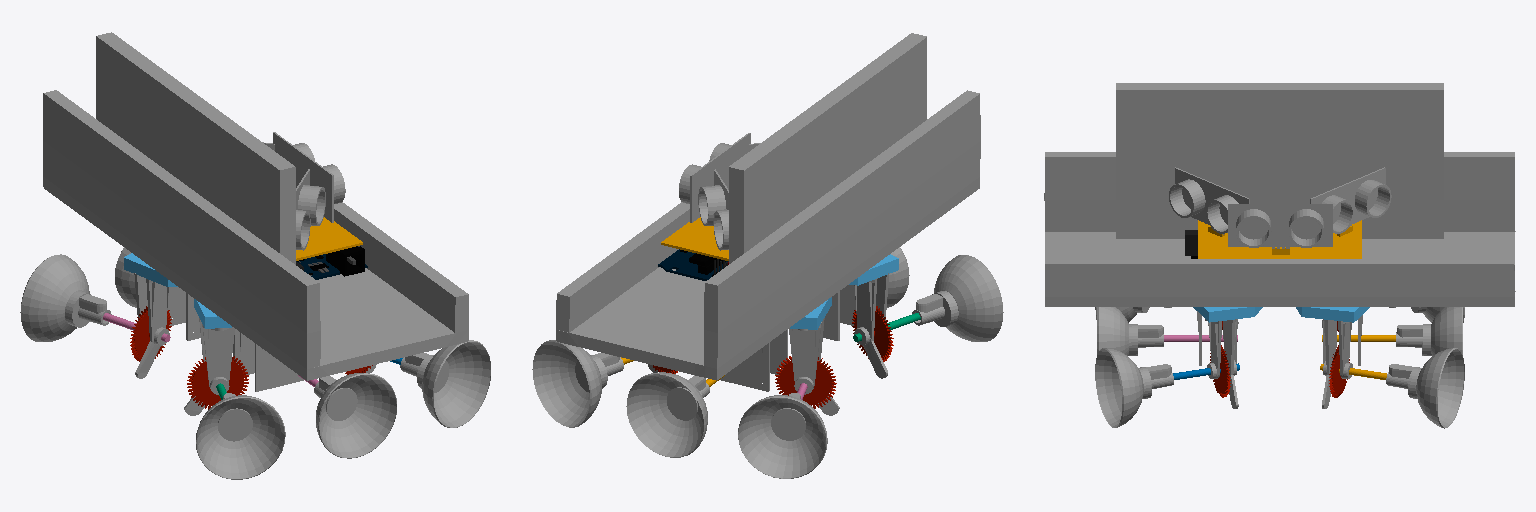
--- What the picture shows (computed from the rendered views, not written in the file) ---
The picture shows the robot from 3 angles, left to right: view 1: azimuth 30°, elevation 25°; view 2: azimuth 150°, elevation 25°; view 3: azimuth 270°, elevation 25°; orthographic projection.
Robot: my6lbot — 39 links, 38 joints (6 continuous, 32 fixed); root link odom; default pose: all joints at 0.
Visible links, largest first — view 1: plataforma, movil, rueda_izqda_arriba, rueda_centro_izqda, rueda_drcha_arriba, rueda_izqda_abajo, hc_sr04_2, pata_larga_drcha_arriba, pata_izqda_arriba, hc_sr04_1, arduino, control_motores (+7 smaller); view 2: plataforma, movil, rueda_drcha_arriba, rueda_centro_drcha, rueda_izqda_arriba, rueda_drcha_abajo, hc_sr04_2, hc_sr04_3, pata_larga_izqda_arriba, pata_drcha_arriba, control_motores, engranaje_drcha_arriba (+8 smaller); view 3: movil, plataforma, hc_sr04_2, rueda_izqda_abajo, rueda_drcha_abajo, control_motores, hc_sr04_1, hc_sr04_3, rueda_centro_izqda, rueda_centro_drcha, base_link, pata_larga_izqda_abajo (+3 smaller).
Link boxes in pixels (<box>): plataforma: <box>43,90,468,380</box>; movil: <box>96,32,295,264</box>; rueda_izqda_arriba: <box>196,393,285,479</box>; rueda_centro_izqda: <box>314,373,396,458</box>; rueda_drcha_arriba: <box>20,254,111,341</box>; rueda_izqda_abajo: <box>400,340,490,427</box>; hc_sr04_2: <box>273,132,345,222</box>; pata_larga_drcha_arriba: <box>135,279,169,378</box>; pata_izqda_arriba: <box>202,324,234,394</box>; hc_sr04_1: <box>296,169,325,250</box>; arduino: <box>296,246,367,279</box>; control_motores: <box>296,217,362,260</box>; plataforma: <box>556,90,980,380</box>; movil: <box>729,33,926,263</box>; rueda_drcha_arriba: <box>738,393,827,478</box>; rueda_centro_drcha: <box>626,372,709,457</box>; rueda_izqda_arriba: <box>912,255,1003,341</box>; rueda_drcha_abajo: <box>532,340,623,427</box>; hc_sr04_2: <box>679,133,750,222</box>; hc_sr04_3: <box>698,169,728,250</box>; pata_larga_izqda_arriba: <box>854,278,887,378</box>; pata_drcha_arriba: <box>789,322,821,394</box>; control_motores: <box>661,217,728,260</box>; engranaje_drcha_arriba: <box>775,356,836,408</box>; movil: <box>1116,83,1443,238</box>; plataforma: <box>1044,152,1515,306</box>; hc_sr04_2: <box>1228,204,1332,248</box>; rueda_izqda_abajo: <box>1095,348,1173,427</box>; rueda_drcha_abajo: <box>1386,348,1464,428</box>; control_motores: <box>1198,220,1361,258</box>; hc_sr04_1: <box>1169,167,1249,234</box>; hc_sr04_3: <box>1310,167,1391,234</box>; rueda_centro_izqda: <box>1097,307,1163,355</box>; rueda_centro_drcha: <box>1396,307,1462,355</box>; base_link: <box>1193,307,1369,322</box>; pata_larga_izqda_abajo: <box>1223,319,1238,408</box>.
Size in the robot's own frame: 1.3 by 2.01 by 1.25 metres.
Meshes: 17 distinct files referenced, 36 mesh visuals loaded (16 Collada DAE); not drawn: 1 (file found but could not be loaded).

robot.urdf — my6lbot:
<?xml version="1.0"?>

<robot name="my6lbot"> 

<!--<arg name="r200_cam_rgb_px" default="0.005"/>
<arg name="r200_cam_rgb_py" default="0.018"/>
<arg name="r200_cam_rgb_pz" default="0.013"/>
<arg name="r200_cam_depth_offset" default="0.01"/>-->

<!--<arg name="camera_visual" default="false"/>-->

<!-- Descripción de la infraestructura del robot, my6lbot -->

<!-- Link odom -->
<link name="odom"/>

<!-- Joint entre Odom y Base_link -->
<joint name="odom_base_link" type="fixed"> 
    <parent link="odom"/>
    <child link="base_link"/>
</joint>


<!-- Base del robot, my6lbot -->
<link name="base_link">
    <visual>
      <origin rpy="0 0 0" xyz="0 0 0.41"/> 
      <geometry>
        <mesh filename="package://my6lbot_description/meshes/base.dae"/>
      </geometry>
    </visual>
    <collision>
      <origin rpy="0 0 0" xyz="0 0 0.41"/>
      <geometry>
        <mesh filename="package://my6lbot_description/meshes/collision_base.dae"/>
      </geometry>
    </collision>
    <inertial>
      <origin rpy="0 0 0" xyz="0.001408 0.005949 0.466723"/> 
      <mass value="0.0252004"/>
	<inertia ixx="0.001373556" ixy="0.000000974" ixz="-0.000000008" iyy="0.000990376" iyz="0.000000003" izz="0.002353434"/>
    </inertial>
</link>


<!-- Estructura de patas cuadradas bajo la base, patas centrales -->

<!-- Pata cuadrada centro izquierda -->
<link name="pata_cuad_centro_izqda">
    <visual>
     <origin rpy="0 -1.5708 1.5708" xyz="0 -0.03 0"/>
      <geometry>
        <mesh filename="package://my6lbot_description/meshes/pata_cuadrada_centro_izqda.dae"/> 
      </geometry>
    </visual>
    <collision>
      <origin rpy="0 -1.5708 1.5708" xyz="0 -0.03 0"/>
      <geometry>
        <mesh filename="package://my6lbot_description/meshes/collision_pata_cuadrada.dae"/>
      </geometry>
    </collision>
    <inertial>
      <origin rpy="0 0 0" xyz="-0.131695 -0.022760 -0.025368"/>
      <mass value="0.000011341"/> 
      <inertia ixx="0.000000155" ixy="-0.000000026" ixz="-0.000000005" iyy="0.000000099" iyz="-0.000000001" izz="0.000000250"/>
    </inertial>
</link>

<!-- Joint pata cuadrada centro izquierda con base -->
<joint name="pata_centro_izqda" type="fixed">
       <origin xyz="0 -0.34 0.38" rpy="0 0 0"/>     
	<parent link="base_link"/>
        <child link="pata_cuad_centro_izqda"/>
</joint> 

<!-- Pata cuadrada centro izquierda trasera -->
<link name="pata_cuad_centro_izqda_tras">
    <visual>
      <origin rpy="0 -1.5708 1.5708" xyz="0 -0.03 0"/> 
      <geometry>
        <mesh filename="package://my6lbot_description/meshes/pata_cuadrada_trasera_izqda.dae"/> 
      </geometry>
    </visual>
    <collision>
      <origin rpy="0 -1.5708 1.5708" xyz="0 -0.03 0"/>
      <geometry>
        <mesh filename="package://my6lbot_description/meshes/collision_pata_cuadrada_trasera.dae"/>
      </geometry>
    </collision>
    <inertial>
      <origin rpy="0 0 0" xyz="-0.131672 -0.016797 -0.019444"/> 
      <mass value="0.000011329"/>
      <inertia ixx="0.000000156" ixy="-0.000000028" ixz="-0.000000008" iyy="0.000000102" iyz="-0.000000002" izz="0.000000250"/>
    </inertial>
</link>

<!-- Joint pata cuadrada centro izquierda trasera con base -->
<joint name="pata_centro_izqda_tras" type="fixed">
        <origin xyz="0 -0.19 0.38" rpy="0 0 0"/>
        <parent link="base_link"/>
        <child link="pata_cuad_centro_izqda_tras"/>
</joint> 


<!-- Pata cuadrada centro derecha --> 
<link name="pata_cuad_centro_drcha">
    <visual>
      <origin rpy="0 -1.5708 -1.5708" xyz="0 0.03 0"/>
      <geometry>
        <mesh filename="package://my6lbot_description/meshes/pata_cuadrada_centro_drcha.dae"/> 
      </geometry>
    </visual>
    <collision>
      <origin rpy="0 -1.5708 -1.5708" xyz="0 0.03 0"/>
      <geometry>
        <mesh filename="package://my6lbot_description/meshes/collision_pata_cuadrada.dae"/>
      </geometry>
    </collision>
    <inertial>
      <origin rpy="0 0 0" xyz="-0.131695 -0.022760 -0.025368"/> 
	<mass value="0.000011341"/> 
      <inertia ixx="0.000000155" ixy="-0.000000026" ixz="-0.000000005" iyy="0.000000099" iyz="-0.000000001" izz="0.000000250"/>
    </inertial>
</link> 

<!-- Joint pata cuadrada centro derecha con base -->
<joint name="pata_centro_drcha" type="fixed">
        <origin xyz="0 0.34 0.38" rpy="0 0 0"/> 
        <parent link="base_link"/>
        <child link="pata_cuad_centro_drcha"/>
</joint> 


<!-- Pata cuadrada centro derecha trasera -->
<link name="pata_cuad_centro_drcha_tras">
    <visual>
      <origin rpy="0 -1.5708 -1.5708" xyz="0 0.03 0"/>
      <geometry>
        <mesh filename="package://my6lbot_description/meshes/pata_cuadrada_trasera_drcha.dae"/> 
      </geometry>
    </visual>
    <collision>
      <origin rpy="0 -1.5708 -1.5708" xyz="0 0.03 0"/>
      <geometry>
        <mesh filename="package://my6lbot_description/meshes/collision_pata_cuadrada_trasera.dae"/>
      </geometry>
    </collision>
    <inertial>
      <origin rpy="0 0 0" xyz="-0.131672 -0.016797 -0.019444"/>
      <mass value="0.000011329"/>
      <inertia ixx="0.000000156" ixy="-0.000000028" ixz="-0.000000008" iyy="0.000000102" iyz="-0.000000002" izz="0.000000250"/>
    </inertial>
</link> 


<!-- Joint pata cuadrada centro derecha trasera con base -->
<joint name="pata_centro_drcha_tras" type="fixed">
        <origin xyz="0 0.19 0.38" rpy="0 0 0"/>
        <parent link="base_link"/>
        <child link="pata_cuad_centro_drcha_tras"/>
</joint> 



<!-- Estructura de las patas que se encuentran en las esquinas -->

<!-- Esquina izquierda arriba (mirando el robot de frente) -->
<!-- Pata corta -->
<link name="pata_izqda_arriba">
    <visual>
      <origin rpy="0 -1.5708 1.5708" xyz="0 0 -0.055"/>
      <geometry>
        <mesh filename="package://my6lbot_description/meshes/pata_corta.dae"/>
      </geometry>
    </visual>
    <collision>
      <origin rpy="0 -1.5708 1.5708" xyz="0 0 -0.055"/>
      <geometry>
        <mesh filename="package://my6lbot_description/meshes/collision_pata_corta.dae"/>
      </geometry>
    </collision>
    <inertial>
	<origin rpy="0 0 0" xyz="0.1076660 -0.0000496 0.0573439"/>
   	<mass value="0.000030204"/>
     <inertia ixx="0.000000062" ixy="-0.000000034" ixz="0.000000516" iyy="0.000000772" iyz="0.000000000" izz="0.000000710"/>
    </inertial>
</link>

<!-- Joint pata corta izquierda arriba con base -->
<joint name="izqda_arriba" type="fixed">
        <origin xyz="-0.32 -0.27 0.38" rpy="0 0 -0.349066"/>
        <parent link="base_link"/>
        <child link="pata_izqda_arriba"/>
</joint> 


<!-- Pata larga -->
<link name="pata_larga_izqda_arriba">
    <visual>
      <origin rpy="0 1.5708 1.5708" xyz="0.01 0 -0.2"/>
      <geometry>
        <mesh filename="package://my6lbot_description/meshes/pata_larga_izqda.dae"/>
      </geometry>
    </visual>
    <collision>
      <origin rpy="0 1.5708 1.5708" xyz="0.01 0 -0.2"/>
      <geometry>
        <mesh filename="package://my6lbot_description/meshes/collision_pata_larga_izqda.dae"/>
      </geometry>
    </collision>
    <inertial>
      <origin rpy="0 0 0" xyz="-0.033181 0.001102 0.008191"/> 
      <mass value="0.000170937"/>
      <inertia ixx="0.000000285" ixy="-0.000000566" ixz="-0.000000404" iyy="0.000002178" iyz="-0.000000106" izz="0.000001977"/>
    </inertial>
</link> 

<!-- Joint pata larga izquierda arriba con base -->
<joint name="larga_izqda_arriba" type="fixed"> 
        <origin xyz="-0.32 -0.2 0.38" rpy="0 0 -0.349066"/> 
        <parent link="base_link"/>
        <child link="pata_larga_izqda_arriba"/>
</joint> 



<!-- Equina izquierda abajo (mirando el robot de frente) -->
<!-- Pata corta -->
<link name="pata_izqda_abajo">
    <visual>
      <origin rpy="0 -1.5708 1.5708" xyz="0 0 -0.055"/>
      <geometry>
        <mesh filename="package://my6lbot_description/meshes/pata_corta.dae"/>
      </geometry>
    </visual>
    <collision>
      <origin rpy="0 -1.5708 1.5708" xyz="0 0 -0.055"/>
      <geometry>
        <mesh filename="package://my6lbot_description/meshes/collision_pata_corta.dae"/>
      </geometry>
    </collision>
    <inertial>
	<origin rpy="0 0 0" xyz="0.1076660 -0.0000496 0.0573439"/>
   	<mass value="0.000030204"/>
     <inertia ixx="0.000000062" ixy="-0.000000034" ixz="0.000000516" iyy="0.000000772" iyz="0.000000000" izz="0.000000710"/>
    </inertial>
</link>  

<!-- Joint pata corta izquierda abajo con base -->
<joint name="izqda_abajo" type="fixed">
        <origin xyz="0.32 -0.27 0.38" rpy="0 0 0.349066"/> 
        <parent link="base_link"/>
        <child link="pata_izqda_abajo"/>
</joint>  


<!-- Pata larga -->
<link name="pata_larga_izqda_abajo">
    <visual>
      <origin rpy="0 -1.5708 -1.5708" xyz="-0.01 0 -0.2"/>
      <geometry>
        <mesh filename="package://my6lbot_description/meshes/pata_larga_drcha.dae"/>
      </geometry>
    </visual>
    <collision>
      <origin rpy="0 -1.5708 -1.5708" xyz="-0.01 0 -0.2"/>
      <geometry>
        <mesh filename="package://my6lbot_description/meshes/collision_pata_larga_drcha.dae"/>
      </geometry>
    </collision>
    <inertial>
      <origin rpy="0 0 0" xyz="-0.033181 0.001102 0.008191"/>
      <mass value="0.000170937"/>
      <inertia ixx="0.000000285" ixy="-0.000000566" ixz="-0.000000404" iyy="0.000002178" iyz="-0.000000106" izz="0.000001977"/>
    </inertial>
</link> 

<!-- Joint pata larga izquierda abajo con base -->
<joint name="larga_izqda_abajo" type="fixed">
        <origin xyz="0.32 -0.2 0.38" rpy="0 0 0.349066"/> 
        <parent link="base_link"/>
        <child link="pata_larga_izqda_abajo"/>
</joint> 



<!-- Esquina derecha arriba (mirando el robot de frente) -->
<!-- Pata corta -->
<link name="pata_drcha_arriba">
    <visual>
      <origin rpy="0 -1.5708 -1.5708" xyz="0 0 -0.055"/>
      <geometry>
        <mesh filename="package://my6lbot_description/meshes/pata_corta.dae"/>
      </geometry>
    </visual>
    <collision>
      <origin rpy="0 -1.5708 -1.5708" xyz="0 0 -0.055"/>
      <geometry>
        <mesh filename="package://my6lbot_description/meshes/collision_pata_corta.dae"/>
      </geometry>
    </collision>
    <inertial>
	<origin rpy="0 0 0" xyz="0.1076660 -0.0000496 0.0573439"/>
   	<mass value="0.000030204"/>
     <inertia ixx="0.000000062" ixy="-0.000000034" ixz="0.000000516" iyy="0.000000772" iyz="0.000000000" izz="0.000000710"/>
    </inertial>
</link> 

<!-- Joint pata corta derecha arriba con base -->
<joint name="drcha_arriba" type="fixed">
        <origin xyz="-0.32 0.27 0.38" rpy="0 0 0.349066"/>
        <parent link="base_link"/>
        <child link="pata_drcha_arriba"/>
</joint> 


<!-- Pata larga -->
<link name="pata_larga_drcha_arriba">
    <visual>
      <origin rpy="0 -1.5708 1.5708" xyz="0.01 0 -0.2"/>
      <geometry>
        <mesh filename="package://my6lbot_description/meshes/pata_larga_drcha.dae"/>
      </geometry>
    </visual>
    <collision>
      <origin rpy="0 -1.5708 1.5708" xyz="0.01 0 -0.2"/>
      <geometry>
        <mesh filename="package://my6lbot_description/meshes/collision_pata_larga_drcha.dae"/>
      </geometry>
    </collision>
    <inertial>
      <origin rpy="0 0 0" xyz="-0.033181 0.001102 0.008191"/> 
      <mass value="0.000170937"/>
      <inertia ixx="0.000000285" ixy="-0.000000566" ixz="-0.000000404" iyy="0.000002178" iyz="-0.000000106" izz="0.000001977"/>
    </inertial>
</link> 

<!-- Joint pata larga derecha arriba con base -->
<joint name="larga_drcha_arriba" type="fixed">
        <origin xyz="-0.32 0.2 0.38" rpy="0 0 0.349066"/>
        <parent link="base_link"/>
        <child link="pata_larga_drcha_arriba"/>
</joint> 



<!-- Esquina derecha abajo (mirando el robot de frente) -->
<!-- Pata corta -->
<link name="pata_drcha_abajo">
    <visual>
      <origin rpy="0 -1.5708 -1.5708" xyz="0 0 -0.055"/>
      <geometry>
        <mesh filename="package://my6lbot_description/meshes/pata_corta.dae"/>
      </geometry>
    </visual>
    <collision>
      <origin rpy="0 -1.5708 -1.5708" xyz="0 0 -0.055"/>
      <geometry>
        <mesh filename="package://my6lbot_description/meshes/collision_pata_corta.dae"/>
      </geometry>
    </collision>
    <inertial>
	<origin rpy="0 0 0" xyz="0.1076660 -0.0000496 0.0573439"/>
   	<mass value="0.000030204"/>
     <inertia ixx="0.000000062" ixy="-0.000000034" ixz="0.000000516" iyy="0.000000772" iyz="0.000000000" izz="0.000000710"/>
    </inertial>
</link>  

<!-- Joint pata corta derecha abajo con base -->
<joint name="drcha_abajo" type="fixed">
        <origin xyz="0.32 0.27 0.38" rpy="0 0 -0.349066"/>
        <parent link="base_link"/>
        <child link="pata_drcha_abajo"/>
</joint> 


<!-- Pata larga -->
<link name="pata_larga_drcha_abajo">
    <visual>
      <origin rpy="0 1.5708 -1.5708" xyz="-0.01 0 -0.2"/>
      <geometry>
        <mesh filename="package://my6lbot_description/meshes/pata_larga_izqda.dae"/>
      </geometry>
    </visual>
    <collision>
      <origin rpy="0 1.5708 -1.5708" xyz="-0.01 0 -0.2"/>
      <geometry>
        <mesh filename="package://my6lbot_description/meshes/collision_pata_larga_izqda.dae"/>
      </geometry>
    </collision>
    <inertial>
      <origin rpy="0 0 0" xyz="-0.033181 0.001102 0.008191"/>
      <mass value="0.000170937"/>
      <inertia ixx="0.000000285" ixy="-0.000000566" ixz="-0.000000404" iyy="0.000002178" iyz="-0.000000106" izz="0.000001977"/>
    </inertial>
</link> 

<!-- Joint pata larga derecha abajo con base -->
<joint name="larga_drcha_abajo" type="fixed">
        <origin xyz="0.32 0.2 0.38" rpy="0 0 -0.349066"/>
        <parent link="base_link"/>
        <child link="pata_larga_drcha_abajo"/>
</joint>  




<!-- Ejes y ruedas del robot, my6lbot -->

<!-- Centrales -->
<!-- Eje centro izquierda -->
<link name="eje_centro_izqda">
    <visual>
      <origin rpy="1.5708 0 0" xyz="0 -0.04 0"/>
      <geometry>
        <mesh filename="package://my6lbot_description/meshes/eje.dae"/> 
      </geometry>
    </visual>
    <collision>
      <origin rpy="1.5708 0 0" xyz="0 -0.04 0"/>
      <geometry>
        <mesh filename="package://my6lbot_description/meshes/collision_eje.dae"/>
      </geometry>
    </collision>
    <inertial>
      <origin rpy="0 0 0" xyz="0 0 0"/> 
	<mass value="0.00056233"/>
      <inertia ixx="0.000007530" ixy="0" ixz="-0" iyy="0.000007530" iyz="0" izz="0.000000063"/>
    </inertial>
</link> 

<!-- Joint eje con pata centro izquierda --> 
<joint name="eje_pata_centro_izqda" type="fixed">
    <parent link="pata_cuad_centro_izqda"/>
    <child link="eje_centro_izqda"/>
    <origin xyz="0 0 -0.245" rpy="0 0 0"/>
</joint>


<!-- Rueda centro izquierda -->
<link name="rueda_centro_izqda">
    <visual>
      <origin rpy="3.14159 3.14159 0" xyz="0 -0.1 0"/>
      <geometry>
        <mesh filename="package://my6lbot_description/meshes/rueda.dae"/> 
      </geometry>
    </visual>
    <collision>
      <origin rpy="3.14159 3.14159 0" xyz="0 -0.1 0"/>
      <geometry>
        <mesh filename="package://my6lbot_description/meshes/collision_rueda.dae"/>
      </geometry>
    </collision>
    <inertial>
    <origin rpy="0 0 0" xyz="0 -0.1 0"/> 
	<mass value="0.001930063"/>
      <inertia ixx="0.000022026" ixy="-0.000000134" ixz="0.000000006" iyy="0.000022416" iyz="0.000000194" izz="0.000021696"/>
    </inertial>
</link> 

<!-- Joint rueda centro izquierda con eje -->
 <joint name="rueda_eje_centro_izqda" type="continuous"> 
    <axis xyz="0 1 0"/>
    <parent link="eje_centro_izqda"/>
    <child link="rueda_centro_izqda"/>
    <origin xyz="0 -0.2 0" rpy="0 0 0"/>
 </joint> 


<!-- Eje centro derecha -->
<link name="eje_centro_drcha">
    <visual>
      <origin rpy="1.5708 0 0" xyz="0 0.04 0"/>
      <geometry>
        <mesh filename="package://my6lbot_description/meshes/eje.dae"/> 
      </geometry>
    </visual>
    <collision>
      <origin rpy="1.5708 0 0" xyz="0 0.04 0"/>
      <geometry>
        <mesh filename="package://my6lbot_description/meshes/collision_eje.dae"/>
      </geometry>
    </collision>
    <inertial>
     <origin rpy="0 0 0" xyz="0 0 0"/>
	<mass value="0.00056233"/>
      <inertia ixx="0.000007530" ixy="0" ixz="-0" iyy="0.000007530" iyz="0" izz="0.000000063"/>
    </inertial>
</link>


<!-- Joint eje con pata centro derecha --> 
<joint name="eje_pata_centro_drcha" type="fixed">
    <parent link="pata_cuad_centro_drcha"/>
    <child link="eje_centro_drcha"/>
    <origin xyz="0 0 -0.245" rpy="0 0 0"/>
</joint>


<!-- Rueda centro derecha --> 
<link name="rueda_centro_drcha">
    <visual>
	 <origin rpy="0 0 0" xyz="0 0.1 0"/> 
      <geometry>
        <mesh filename="package://my6lbot_description/meshes/rueda.dae"/> 
      </geometry>
    </visual>
    <collision>
      <origin rpy="0 0 0" xyz="0 0.1 0"/>
      <geometry>
        <mesh filename="package://my6lbot_description/meshes/collision_rueda.dae"/>
      </geometry>
    </collision>
    <inertial>
     <origin rpy="0 0 0" xyz="0 0.1 0"/> 
	<mass value="0.001930063"/>
      <inertia ixx="0.000022026" ixy="-0.000000134" ixz="0.000000006" iyy="0.000022416" iyz="0.000000194" izz="0.000021696"/>
    </inertial>
</link> 


<!-- Joint rueda centro derecha con eje --> 
<joint name="rueda_eje_centro_drcha" type="continuous">
    <axis xyz="0 1 0"/>
    <parent link="eje_centro_drcha"/>
    <child link="rueda_centro_drcha"/>
    <origin xyz="0 0.2 0" rpy="0 0 0"/>
</joint>




<!-- Lado Izquierdo -->
<!-- Eje izquierda arriba -->
<link name="eje_izqda_arriba">
    <visual>
      <origin rpy="0 1.5708 1.5708" xyz="0 -0.1 0"/>
      <geometry>
        <mesh filename="package://my6lbot_description/meshes/eje.dae"/> 
      </geometry>
    </visual>
    <collision>
      <origin rpy="0 1.5708 1.5708" xyz="0 -0.1 0"/>
      <geometry>
        <mesh filename="package://my6lbot_description/meshes/collision_eje.dae"/>
      </geometry>
    </collision>
    <inertial>
      <origin rpy="0 0 0" xyz="0 0 0"/>
	<mass value="0.00056233"/>
      <inertia ixx="0.000007530" ixy="0" ixz="-0" iyy="0.000007530" iyz="0" izz="0.000000063"/>
    </inertial>
</link>  


<!-- Joint pata izquierda arriba con eje --> 
<joint name="eje_pata_izqda_arriba" type="fixed"> 
        <parent link="pata_izqda_arriba"/>
        <child link="eje_izqda_arriba"/>
	<origin xyz="0 0 -0.245" rpy="0 0 0"/> 
</joint> 


<!-- Rueda izquierda arriba -->
<link name="rueda_izqda_arriba">
    <visual>
      <origin rpy="3.14159 3.14159 0" xyz="0 -0.1 0"/>
      <geometry>
        <mesh filename="package://my6lbot_description/meshes/rueda.dae"/> 
      </geometry>
    </visual>
    <collision>
      <origin rpy="3.14159 3.14159 0" xyz="0 -0.1 0"/>
      <geometry>
        <mesh filename="package://my6lbot_description/meshes/collision_rueda.dae"/>
      </geometry>
    </collision>
    <inertial>
     <origin rpy="0 0 0" xyz="0 -0.1 0"/>
	<mass value="0.001930063"/>
      <inertia ixx="0.000022026" ixy="-0.000000134" ixz="0.000000006" iyy="0.000022416" iyz="0.000000194" izz="0.000021696"/>
    </inertial>
</link> 

<!-- Joint rueda izquierda arriba con eje -->
<joint name="rueda_eje_izqda_arriba" type="continuous">
	<axis xyz="0 1 0"/>
        <parent link="eje_izqda_arriba"/>
        <child link="rueda_izqda_arriba"/>
	<origin xyz="0 -0.25 0" rpy="0 0 0"/>
</joint>


<!-- Eje izquierda abajo -->
<link name="eje_izqda_abajo">
    <visual>
      <origin rpy="0 -1.5708 1.5708" xyz="0 -0.1 0"/>
      <geometry>
        <mesh filename="package://my6lbot_description/meshes/eje.dae"/> 
      </geometry>
    </visual>
    <collision>
      <origin rpy="0 -1.5708 1.5708" xyz="0 -0.1 0"/>
      <geometry>
        <mesh filename="package://my6lbot_description/meshes/collision_eje.dae"/>
      </geometry>
    </collision>
    <inertial>
      <origin rpy="0 0 0" xyz="0 0 0"/>
	<mass value="0.00056233"/>
      <inertia ixx="0.000007530" ixy="0" ixz="-0" iyy="0.000007530" iyz="0" izz="0.000000063"/>
    </inertial>
</link>  

<!-- Joint pata izquierda abajo con eje --> 
<joint name="eje_pata_izqda_abajo" type="fixed">
	<origin xyz="0 0 -0.245" rpy="0 0 0"/>
        <parent link="pata_izqda_abajo"/>
        <child link="eje_izqda_abajo"/>
</joint> 


<!-- Rueda izquierda abajo -->
<link name="rueda_izqda_abajo">
    <visual>
    <origin rpy="3.14159 3.14159 0" xyz="0 -0.1 0"/>
      <geometry>
        <mesh filename="package://my6lbot_description/meshes/rueda.dae"/> 
      </geometry>
    </visual>
    <collision>
      <origin rpy="3.14159 3.14159 0" xyz="0 -0.1 0"/>
      <geometry>
        <mesh filename="package://my6lbot_description/meshes/collision_rueda.dae"/>
      </geometry>
    </collision>
    <inertial>
    <origin rpy="0 0 0" xyz="0 -0.1 0"/>
	<mass value="0.001930063"/>
      <inertia ixx="0.000022026" ixy="-0.000000134" ixz="0.000000006" iyy="0.000022416" iyz="0.000000194" izz="0.000021696"/>
    </inertial>
</link> 

<!-- Joint rueda izquierda abajo con eje -->
<joint name="rueda_eje_izqda_abajo" type="continuous">
	<axis xyz="0 1 0"/>
        <origin xyz="0 -0.25 0" rpy="0 0 0"/>
        <parent link="eje_izqda_abajo"/>
        <child link="rueda_izqda_abajo"/>
</joint>  




<!-- Lado Derecho -->
<!-- Eje derecha arriba -->
<link name="eje_drcha_arriba">
    <visual>
      <origin rpy="0 -1.5708 1.5708" xyz="0 0.1 0"/>
      <geometry>
        <mesh filename="package://my6lbot_description/meshes/eje.dae"/> 
      </geometry>
    </visual>
    <collision>
      <origin rpy="0 -1.5708 1.5708" xyz="0 0.1 0"/>
      <geometry>
        <mesh filename="package://my6lbot_description/meshes/collision_eje.dae"/>
      </geometry>
    </collision>
    <inertial>
      <origin rpy="0 0 0" xyz="0 0 0"/>
	<mass value="0.00056233"/>
      <inertia ixx="0.000007530" ixy="0" ixz="-0" iyy="0.000007530" iyz="0" izz="0.000000063"/>
    </inertial>
</link>

<!-- Joint eje derecha arriba con pata --> 
<joint name="eje_pata_drcha_arriba" type="fixed">
        <origin xyz="0 0 -0.245" rpy="0 0 0"/>
        <parent link="pata_drcha_arriba"/>
        <child link="eje_drcha_arriba"/>
</joint>


<!-- Rueda derecha arriba -->
<link name="rueda_drcha_arriba">
    <visual>
      <origin rpy="0 0 0" xyz="0 0.1 0"/>
      <geometry>
        <mesh filename="package://my6lbot_description/meshes/rueda.dae"/> 
      </geometry>
    </visual>
    <collision>
      <origin rpy="0 0 0" xyz="0 0.1 0"/>
      <geometry>
        <mesh filename="package://my6lbot_description/meshes/collision_rueda.dae"/>
      </geometry>
    </collision>
    <inertial>
    <origin rpy="0 0 0" xyz="0 0.1 0"/>
	<mass value="0.001930063"/>
      <inertia ixx="0.000022026" ixy="-0.000000134" ixz="0.000000006" iyy="0.000022416" iyz="0.000000194" izz="0.000021696"/>
    </inertial>
</link> 

<!-- Joint rueda derecha arriba con eje -->
<joint name="rueda_eje_drcha_arriba" type="continuous">
	<axis xyz="0 1 0"/>
        <parent link="eje_drcha_arriba"/>
        <child link="rueda_drcha_arriba"/>
	<origin xyz="0 0.25 0" rpy="0 0 0"/> 
</joint> 


<!-- Eje derecha abajo --> 
<link name="eje_drcha_abajo">
    <visual>
      <origin rpy="0 1.5708 -1.5708" xyz="0 0.1 0"/>
      <geometry>
        <mesh filename="package://my6lbot_description/meshes/eje.dae"/> 
      </geometry>
    </visual>
    <collision>
      <origin rpy="0 1.5708 -1.5708" xyz="0 0.1 0"/>
      <geometry>
        <mesh filename="package://my6lbot_description/meshes/collision_eje.dae"/>
      </geometry>
    </collision>
    <inertial>
      <origin rpy="0 0 0" xyz="0 0 0"/>
	<mass value="0.00056233"/>
      <inertia ixx="0.000007530" ixy="0" ixz="-0" iyy="0.000007530" iyz="0" izz="0.000000063"/>
    </inertial>
</link> 


<!-- Joint eje derecha abajo con pata --> 
<joint name="eje_pata_drcha_abajo" type="fixed">
        <parent link="pata_drcha_abajo"/>
        <child link="eje_drcha_abajo"/>
	<origin xyz="0 0 -0.245" rpy="0 0 0"/>
</joint> 


<!-- Rueda derecha abajo  -->
<link name="rueda_drcha_abajo">
    <visual>
      <origin rpy="0 0 0" xyz="0 0.1 0"/>
      <geometry>
        <mesh filename="package://my6lbot_description/meshes/rueda.dae"/> 
      </geometry>
    </visual>
    <collision>
      <origin rpy="0 0 0" xyz="0 0.1 0"/>
      <geometry>
        <mesh filename="package://my6lbot_description/meshes/collision_rueda.dae"/>
      </geometry>
    </collision>
    <inertial>
    <origin rpy="0 0 0" xyz="0 0.1 0"/>   
	<mass value="0.001930063"/>
      <inertia ixx="0.000022026" ixy="-0.000000134" ixz="0.000000006" iyy="0.000022416" iyz="0.000000194" izz="0.000021696"/>
    </inertial>
</link> 

<!-- Joint rueda derecha abajo con eje -->
<joint name="rueda_eje_drcha_abajo" type="continuous">
	<axis xyz="0 1 0"/>
        <parent link="eje_drcha_abajo"/>
        <child link="rueda_drcha_abajo"/>
	<origin xyz="0 0.25 0" rpy="0 0 0"/>
</joint> 




<!-- Engranajes de las 4 esquinas -->

<!-- Engranaje izquierda arriba -->
<link name="engranaje_izqda_arriba">
    <visual>
      <origin rpy="0 1.5708 1.5708" xyz="0 -0.01 0"/>
      <geometry>
        <mesh filename="package://my6lbot_description/meshes/engranaje_esquinas_naranja.dae"/> 
      </geometry>
    </visual>
    <collision>
      <origin rpy="0 1.5708 1.5708" xyz="0 -0.01 0"/>
      <geometry>
        <mesh filename="package://my6lbot_description/meshes/collision_engranaje_esquinas.dae"/>
      </geometry>
    </collision>
    <inertial>
      <origin rpy="0 0 0" xyz="0 0 0"/>
      <mass value="0.00056233"/>
      <inertia ixx="0.000007530" ixy="0" ixz="-0" iyy="0.000007530" iyz="0" izz="0.000000063"/>
    </inertial>
</link> 

<!-- Joint engranaje izquierda arriba con eje izquierda arriba -->
<joint name="engranaje_eje_izqda_arriba" type="fixed">
	<origin xyz="0 0.025 0" rpy="0 0 0"/>
        <parent link="eje_izqda_arriba"/>
        <child link="engranaje_izqda_arriba"/>
</joint> 


<!-- Engranaje izquierda abajo -->
<link name="engranaje_izqda_abajo">
    <visual>
      <origin rpy="0 -1.5708 -1.5708" xyz="0 -0.01 0"/>
      <geometry>
        <mesh filename="package://my6lbot_description/meshes/engranaje_esquinas_naranja.dae"/> 
      </geometry>
    </visual>
    <collision>
      <origin rpy="0 -1.5708 -1.5708" xyz="0 -0.01 0"/>
      <geometry>
        <mesh filename="package://my6lbot_description/meshes/collision_engranaje_esquinas.dae"/>
      </geometry>
    </collision>
    <inertial>
      <origin rpy="0 0 0" xyz="0 0 0"/>
	<mass value="0.00056233"/>
      <inertia ixx="0.000007530" ixy="0" ixz="-0" iyy="0.000007530" iyz="0" izz="0.000000063"/>
    </inertial>
</link> 

<!-- Joint engranaje izquierda abajo con eje izqda abajo -->
<joint name="engranaje_eje_izqda_abajo" type="fixed">
	<origin xyz="0 0.025 0" rpy="0 0 0"/>
        <parent link="eje_izqda_abajo"/>
        <child link="engranaje_izqda_abajo"/>
</joint>


<!-- Engranaje derecha arriba-->
<link name="engranaje_drcha_arriba">
    <visual>
      <origin rpy="0 -1.5708 1.5708" xyz="0 0.01 0"/>
      <geometry>
        <mesh filename="package://my6lbot_description/meshes/engranaje_esquinas_naranja.dae"/> 
      </geometry>
    </visual>
    <collision>
      <origin rpy="0 -1.5708 1.5708" xyz="0 0.01 0"/>
      <geometry>
        <mesh filename="package://my6lbot_description/meshes/collision_engranaje_esquinas.dae"/>
      </geometry>
    </collision>
    <inertial>
      <origin rpy="0 0 0" xyz="0 0 0"/> 
	<mass value="0.00056233"/>
      <inertia ixx="0.000007530" ixy="0" ixz="-0" iyy="0.000007530" iyz="0" izz="0.000000063"/>
    </inertial>
</link> 

<!-- Joint engranaje derecha arriba con eje derecha arriba -->
<joint name="engranaje_eje_drcha_arriba" type="fixed">
	<origin xyz="0 -0.025 0" rpy="0 0 0"/>
        <parent link="eje_drcha_arriba"/>
        <child link="engranaje_drcha_arriba"/>
</joint> 


<!-- Engranaje derecha abajo -->
<link name="engranaje_drcha_abajo">
    <visual>
      <origin rpy="0 1.5708 -1.5708" xyz="0.004 0.01 0"/>
      <geometry>
        <mesh filename="package://my6lbot_description/meshes/engranaje_esquinas_naranja.dae"/> 
      </geometry>
    </visual>
    <collision>
      <origin rpy="0 1.5708 -1.5708" xyz="0.004 0.01 0"/>
      <geometry>
        <mesh filename="package://my6lbot_description/meshes/collision_engranaje_esquinas.dae"/>
      </geometry>
    </collision>
    <inertial>
      <origin rpy="0 0 0" xyz="0 0 0"/>
	<mass value="0.00056233"/>
      <inertia ixx="0.000007530" ixy="0" ixz="-0" iyy="0.000007530" iyz="0" izz="0.000000063"/>
    </inertial>
</link> 

<!-- Joint 31: eje derecha abajo con engranaje derecha abajo -->
<joint name="engranaje_eje_drcha_abajo" type="fixed"> 
	<origin xyz="0 -0.025 0" rpy="0 0 0"/>
        <parent link="eje_drcha_abajo"/>
        <child link="engranaje_drcha_abajo"/>
</joint> 




<!-- Plataforma superior, colocada sobre la base, en la que ubicaremos el móvil, la placa de motores, la placa Arduino y los sensores -->
  <link name="plataforma">
    <visual>
      <origin rpy="0 0 -1.5708" xyz="0 0 0"/>
      <geometry>
        <mesh filename="package://my6lbot_description/meshes/plataforma.dae"/>
      </geometry>
    </visual>
    <collision>
      <origin rpy="0 0 -1.5708" xyz="0 0 0"/>
      <geometry>
        <mesh filename="package://my6lbot_description/meshes/collision_plataforma.dae"/>
      </geometry>
    </collision>
    <inertial>
     <origin rpy="0 0 0" xyz="0.001326 -0.118987 0.144776"/>
      <mass value="0.014841271"/>
	<inertia ixx="0.005568011" ixy="-0.000000796" ixz="0.000206859" iyy="0.001531249" iyz="-0.000000757" izz="0.006758632"/> <!-- Intercambiamos xx e yy de los valores obtenidos-->
    </inertial>
  </link> 

<!-- Joint plataforma superior con base  -->
<joint name="plataforma_base" type="fixed">
        <origin xyz="0 0 0.475" rpy="0 0 0"/>
        <parent link="base_link"/>
        <child link="plataforma"/>
</joint> 



<!-- Placa Arduino-->
 <link name="arduino">
    <visual>
      <origin rpy="0 0 1.5708" xyz="0 0 0"/>
      <geometry>
        <mesh filename="package://my6lbot_description/meshes/arduino.dae"/>
      </geometry>
    </visual>
    <collision>
      <origin rpy="0 0 1.5708" xyz="0 0 0"/>
      <geometry>
        <mesh filename="package://my6lbot_description/meshes/collision_arduino.dae"/>
      </geometry>
    </collision>
    <inertial>
	 <origin rpy="0 0 0" xyz="-0.032426 -0.040293 0.053334"/>
       <mass value="0.048376644"/> 
	<inertia ixx="0.002444384" ixy="0.000000000" ixz="-0.000000000" iyy="0.001236856" iyz="-0.000000000" izz="0.003572747"/> <!--intercambiamos xx e yy de los valores obtenidos -->
   </inertial>
</link>

<!-- Joint placa arduino con plataforma -->
<joint name="placa_arduino_plataforma" type="fixed">
        <origin xyz="0 0 0.03" rpy="0 0 0"/>
        <parent link="plataforma"/>
        <child link="arduino"/>
</joint> 



<!-- Placa para el control de motores -->
  <link name="control_motores">
    <visual>
      <origin rpy="0 0 0" xyz="0.02 0 0"/>
      <geometry>
        <mesh filename="package://my6lbot_description/meshes/placa_motores.dae"/>
      </geometry>
    </visual>
    <collision>
      <origin rpy="0 0 0" xyz="0.02 0 0"/>
      <geometry>
        <mesh filename="package://my6lbot_description/meshes/collision_placa_motores.dae"/>
      </geometry>
    </collision>
    <inertial>
        <origin rpy="0 0 0" xyz="-0.000745 -0.000582 0.011053"/>
	
	<mass value="0.030402384"/>

	<inertia ixx="0.000654234" ixy="0.000000000" ixz="-0.000000000" iyy="0.001260018" iyz="-0.000000000" izz="0.001905036"/> 
	</inertial>
</link>  

<!-- Joint placa control motores con placa arduino -->
<joint name="control_motores_arduino" type="fixed">
        <origin xyz="0 0 0.113" rpy="0 0 0"/>
	<parent link="arduino"/>
        <child link="control_motores"/>
</joint>  



<!-- Móvil-->
<link name="movil">
    <visual>
      <origin rpy="1.5708 3.14159 -1.5708" xyz="0 0 0"/>
      <geometry>
        <mesh filename="package://my6lbot_description/meshes/movil_sc.dae"/>
      </geometry>
    </visual>
    <collision>
      <origin rpy="1.5708 3.14159 -1.5708" xyz="0 0 0"/>
      <geometry>
        <mesh filename="package://my6lbot_description/meshes/collision_movil.dae"/>
      </geometry>
    </collision>
    <inertial>
	<origin rpy="0 0 0" xyz="0.265 0 -0.55"/>
  	<mass value="0.068563110"/>
	<inertia ixx="0.011219955" ixy="0.000005251" ixz="0.000000305" iyy="0.002826898" iyz="-0.000000732" izz="0.013990914"/> 
    </inertial>
</link> 

<!-- Joint móvil con plataforma -->
<joint name="movil_plataforma" type="fixed">
        <origin xyz="-0.265 0 0.375" rpy="0 0 0"/>
        <parent link="plataforma"/>
        <child link="movil"/>
</joint>


<!-- Cámara del móvil -->
<link name="camera_link">
 <visual>
      <origin rpy="0 1.5708 0" xyz="0 0.24 0.625"/>
      <geometry>
        <mesh filename="package://my6lbot_description/meshes/camera.dae"/>
      </geometry>
    </visual>
    <collision>
      <origin rpy="0 1.5708 0" xyz="0 0 0"/>
      <geometry>
        <mesh filename="package://my6lbot_description/meshes/collision_camera.dae"/>
      </geometry>
    </collision>
    <inertial>
  	<origin rpy="0 0 0" xyz="0.619362 -0.243069 -0.014446"/>
  	<mass value="0.000193369"/>
	<inertia ixx="0.000000070" ixy="-0.000000000" ixz="-0.000000000" iyy="0.000000070" iyz="0.000000000" izz="0.000000060"/>
    </inertial>
</link> 

<!-- Joint cámara con móvil -->
<joint name="camera_movil" type="fixed">
        <origin xyz="0.025 0.62 0.24" rpy="0 0 0"/>
        <parent link="movil"/>
        <child link="camera_link"/>
</joint>




<!-- Sensores -->

<!-- Sensor frontal -->
<link name="hc_sr04_2">
    <visual>
      <origin rpy="0 1.5708 0" xyz="0 0 0"/>
      <geometry>
        <mesh filename="package://my6lbot_description/meshes/sensor.dae"/>
      </geometry>
    </visual>
    <collision>
      <origin rpy="0 1.5708 0" xyz="-0.03 0 0"/>
      <geometry>
        <mesh filename="package://my6lbot_description/meshes/collision_sensor.dae"/>
      </geometry>
    </collision>
    <inertial>
	<origin rpy="0 0 0" xyz="0.0264374 -0.0028550 0.2141432"/>    
    <mass value="0.000627506"/>
       <inertia ixx="0.000014895" ixy="-0.000000442" ixz="0.000003847" iyy="0.000016911" iyz="-0.000000146" izz="0.000005403"/>
    </inertial>
</link> 

<!-- Joint sensor frontal con placa control de motores -->
<joint name="sensor_frontal" type="fixed">
        <origin xyz="0.21 0 0.15" rpy="0 0 0"/>
        <parent link="control_motores"/>
        <child link="hc_sr04_2"/>
</joint>  


<!-- Sensor derecha -->
<link name="hc_sr04_3">
    <visual>
      <origin rpy="0 1.5708 0" xyz="0 0 0"/>
      <geometry>
        <mesh filename="package://my6lbot_description/meshes/sensor.dae"/>
      </geometry>
    </visual>
    <collision>
      <origin rpy="0 1.5708 0" xyz="-0.03 0 0"/>
      <geometry>
        <mesh filename="package://my6lbot_description/meshes/collision_sensor.dae"/>
      </geometry>
    </collision>
    <inertial>
	<origin rpy="0 0 0" xyz="0.0264374 -0.0028550 0.2141432"/>
	 <mass value="0.000627506"/>
      <inertia ixx="0.000014895" ixy="-0.000000442" ixz="0.000003847" iyy="0.000016911" iyz="-0.000000146" izz="0.000005403"/> 	
	</inertial>
</link> 

<!-- Joint sensor derecha con placa control de motores -->
<joint name="sensor_drcha" type="fixed">
	<origin xyz="0 0.29 0.15" rpy="0 0 0.785398"/>
        <parent link="control_motores"/>
        <child link="hc_sr04_3"/>
</joint> 


<!-- Sensor izquierda -->
<link name="hc_sr04_1">
    <visual>
	<origin rpy="0 1.5708 0" xyz="0 0 0"/>
      <geometry>
        <mesh filename="package://my6lbot_description/meshes/sensor.dae"/>
      </geometry>
    </visual>
    <collision>
      <origin rpy="0 1.5708 0" xyz="-0.03 0 0"/>
      <geometry>
        <mesh filename="package://my6lbot_description/meshes/collision_sensor.dae"/>
      </geometry>
    </collision>
    <inertial>
	<origin rpy="0 0 0" xyz="0.0264374 -0.0028550 0.2141432"/>    
	<mass value="0.000627506"/>
      <inertia ixx="0.000014895" ixy="-0.000000442" ixz="0.000003847" iyy="0.000016911" iyz="-0.000000146" izz="0.000005403"/> 
    </inertial>
</link> 

<!-- Joint sensor izquierda con placa control de motores -->
<joint name="sensor_izqda" type="fixed">
        <origin xyz="0 -0.29 0.15" rpy="0 0 -0.785398"/>
        <parent link="control_motores"/>
        <child link="hc_sr04_1"/>
</joint> 


<!-- IMU sensor  -->
<link name="IMU_link">
  <inertial>
    <mass value="0.001"/>
    <origin rpy="0 0 0" xyz="0 0 0"/>
    <inertia ixx="0.0001" ixy="0" ixz="0" iyy="0.000001" iyz="0" izz="0.0001"/>
  </inertial>
  <visual>
    <origin rpy="0 0 0" xyz="0 0 0"/>
    <geometry>
      <box size="0.01 0.01 0.01"/>
    </geometry>
  </visual>
  <collision>
    <origin rpy="0 0 0" xyz="0 0 0"/>
    <geometry>
      <box size=".01 .01 .01"/>
    </geometry>
  </collision>
</link>

<!-- Joint sensor IMU con base_link -->
<joint name="IMU_joint" type="fixed">
    <origin xyz="0 0 0.39" rpy="0 0 0"/> 
    <parent link="base_link"/>
    <child link="IMU_link"/>
</joint>




<!-- Plugins -->

<!-- Plugin diferencial para el movimiento de las 6 ruedas -->
<gazebo>
      <plugin name="diffdrive_plugin_multiwheel" filename="libdiffdrive_plugin_multi_wheel.so">
        <alwaysOn>true</alwaysOn>
        <updateRate>25.0</updateRate>
        <leftJoints>rueda_eje_centro_izqda rueda_eje_izqda_abajo rueda_eje_izqda_arriba</leftJoints>
        <rightJoints>rueda_eje_centro_drcha rueda_eje_drcha_arriba rueda_eje_drcha_abajo</rightJoints>
        <wheelSeparation>1</wheelSeparation>
        <wheelDiameter>0.35</wheelDiameter>
        <torque>50000</torque>
      <!--<robotNamespace></robotNamespace> No estaba puesto-->
        <robotBaseFrame>base_link</robotBaseFrame>
	<odometryFrame>odom</odometryFrame>
        <commandTopic>cmd_vel</commandTopic>
	<odometryTopic>odom</odometryTopic>
        <publishOdometryTf>0</publishOdometryTf>
        <publishOdometryMsg>1</publishOdometryMsg>
      </plugin>
</gazebo>

<!-- Plugin Cámara Kinect-->

<gazebo reference="camera_link">
    <sensor type="depth" name="camera">
      <pose>0.005 0.018 0.013 0 0 0</pose>
      <always_on>true</always_on>
      <!--<visualize>$(arg camera_visual)</visualize>-->
      <visualize>0</visualize>
      <camera>
          <horizontal_fov>1.02974</horizontal_fov>
          <image>
              <width>640</width>
              <height>480</height>
              <format>R8G8B8</format>
          </image>
          <depth_camera></depth_camera>
          <clip>
              <near>0.02</near>
              <far>300</far>
          </clip>
      </camera>
      <plugin name="camera_controller" filename="libgazebo_ros_openni_kinect.so">
        <pose>0.01 0 0 0 0 0</pose>
        <alwaysOn>true</alwaysOn>
            <updateRate>30.0</updateRate>
            <cameraName>camera</cameraName>
            <frameName>camera_link</frameName>
        <imageTopicName>image</imageTopicName>
        <depthImageTopicName>depth/image</depthImageTopicName>
        <pointCloudTopicName>depth/points</pointCloudTopicName>
        <cameraInfoTopicName>camera_info</cameraInfoTopicName>
        <depthImageCameraInfoTopicName>depth/camera_info</depthImageCameraInfoTopicName>
        <pointCloudCutoff>0.4</pointCloudCutoff>
            <hackBaseline>0.07</hackBaseline>
            <distortionK1>0.0</distortionK1>
            <distortionK2>0.0</distortionK2>
            <distortionK3>0.0</distortionK3>
            <distortionT1>0.0</distortionT1>
            <distortionT2>0.0</distortionT2>
        <CxPrime>0.0</CxPrime>
        <Cx>0.0</Cx>
        <Cy>0.0</Cy>
        <focalLength>0.0</focalLength>
      </plugin>
    </sensor>
</gazebo>



<!-- Plugins para los sersores ultrasonido -->

 <!-- Plugin Sensor Izquierda -->
<gazebo reference="hc_sr04_1">
      <sensor type="ray" name="hc_sr04_1">
	  <pose>-1.5708 -1.5708 -1.5708 0 0 0</pose>
	  <visualize>true</visualize>
	  <update_rate>30</update_rate>
	<ray>
          <scan>
            <horizontal>
      	      <samples>32</samples>
      	      <resolution>1</resolution>
      	      <min_angle>-0.3926991</min_angle>
      	      <max_angle>0.3926991</max_angle>
            </horizontal>
	 <!--   <vertical>
              <samples>5</samples>
              <resolution>1</resolution>
              <min_angle>-16</min_angle>
      	      <max_angle>16</max_angle>
            </vertical>-->
          </scan>
          <range>
            <min>0.02</min>
            <max>3</max> <!-- El máx rango según datacheet es 4 pero pondremos 3 por la representación en Gazebo -->
            <resolution>0.02</resolution>
          </range>
	  <noise>
            <mean>0.0</mean>
            <stddev>0.02</stddev>
          </noise>
	</ray>
	<plugin name="hc_sr04_1_plugin" filename="libgazebo_ros_range.so">
	  <gaussianNoise>0.005</gaussianNoise>
	  <always_on>true</always_on>
	  <update_rate>30</update_rate>
          <topicName>hc_sr04_1</topicName>
          <frameName>hc_sr04_1</frameName>
	  <frameId>hc_sr04_1</frameId>
	  <fov>32</fov>
	  <radiation>ultrasound</radiation>
	</plugin>
      </sensor>
</gazebo>


 <!-- Plugin Sensor Derecha-->
<gazebo reference="hc_sr04_3">
      <sensor type="ray" name="hc_sr04_3">
	  <pose>0 0 0 0 0 1.5708</pose>
	  <visualize>true</visualize>
	  <update_rate>30</update_rate>
	<ray>
          <scan>
            <horizontal>
      	      <samples>32</samples>
      	      <resolution>1</resolution>
      	      <min_angle>-0.3926991</min_angle>
      	      <max_angle>0.3926991</max_angle>
            </horizontal>
	 <!--   <vertical>
              <samples>5</samples>
              <resolution>1</resolution>
              <min_angle>-16</min_angle>
      	      <max_angle>16</max_angle>
            </vertical>-->
          </scan>
          <range>
            <min>0.02</min>
            <max>3</max> <!-- El máx rango según datacheet es 4 pero pondremos 3 por la representación en Gazebo -->
            <resolution>0.02</resolution>
          </range>
	</ray>
	<plugin name="hc_sr04_3_plugin" filename="libgazebo_ros_range.so">
	  <gaussianNoise>0.005</gaussianNoise>
	  <always_on>true</always_on>
	  <update_rate>30</update_rate>
          <topicName>hc_sr04_3</topicName>
          <frameName>hc_sr04_3</frameName>
	  <frameId>hc_sr04_3</frameId>
	  <fov>32</fov>
	  <radiation>ultrasound</radiation>
	</plugin>
      </sensor>
</gazebo>


<!-- Plugin Sensor Central -->
 <gazebo reference="hc_sr04_2">
      <sensor type="ray" name="hc_sr04_2">
	  <pose>0 0 0 0 0 0</pose>
	  <update_rate>30</update_rate>
	  <visualize>true</visualize>
	<ray>
          <scan>
            <horizontal>
      	      <samples>32</samples>
      	      <resolution>1</resolution>
      	      <min_angle>-0.3926991</min_angle>
      	      <max_angle>0.3926991</max_angle>
            </horizontal>
	   <!-- <vertical>
              <samples>32</samples>
              <resolution>1</resolution>
              <min_angle>-0.436332</min_angle>
      	      <max_angle>0.436332</max_angle>
            </vertical>-->
          </scan>
          <range>
            <min>0.02</min>
            <max>3</max> <!-- El máx rango según datacheet es 4 pero pondremos 3 por la representación en Gazebo -->
            <resolution>0.02</resolution>
          </range>
	</ray>
	<plugin name="hc_sr04_2_plugin" filename="libgazebo_ros_range.so">
	  <gaussianNoise>0.005</gaussianNoise>
	  <always_on>true</always_on>
	  <update_rate>30</update_rate>
          <topicName>hc_sr04_2</topicName>
          <frameName>hc_sr04_2</frameName>
	  <frameId>hc_sr04_2</frameId>
	  <fov>32</fov>
	  <radiation>ultrasound</radiation>
	</plugin>
      </sensor>
</gazebo>



<!-- IMU Sensor -->

<gazebo>
    <plugin name="gazebo_ros_imu_controller" filename="libhector_gazebo_ros_imu.so"> <!-- libgazebo_ros_imu.so, ¿no funciona?-->
      <turnGravityOff>false</turnGravityOff>
      <alwaysOn>true</alwaysOn>
      <bodyName>IMU_link</bodyName>
      <frameName>IMU_link</frameName>
      <frameId>IMU_link</frameId>
      <topicName>imu</topicName>
      <serviceName>imu_service</serviceName>
      <gaussianNoise>0.0</gaussianNoise>
      <rpyOffsets>0 0 0</rpyOffsets>
      <updateRate>30.0</updateRate>
    </plugin>
</gazebo>

</robot>
